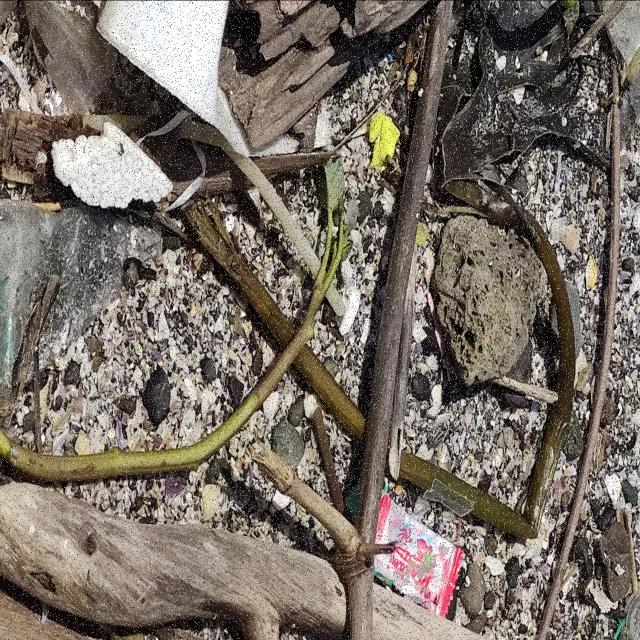plastic_waste: (375, 493, 466, 619)
wood_waste: (1, 480, 351, 640)
